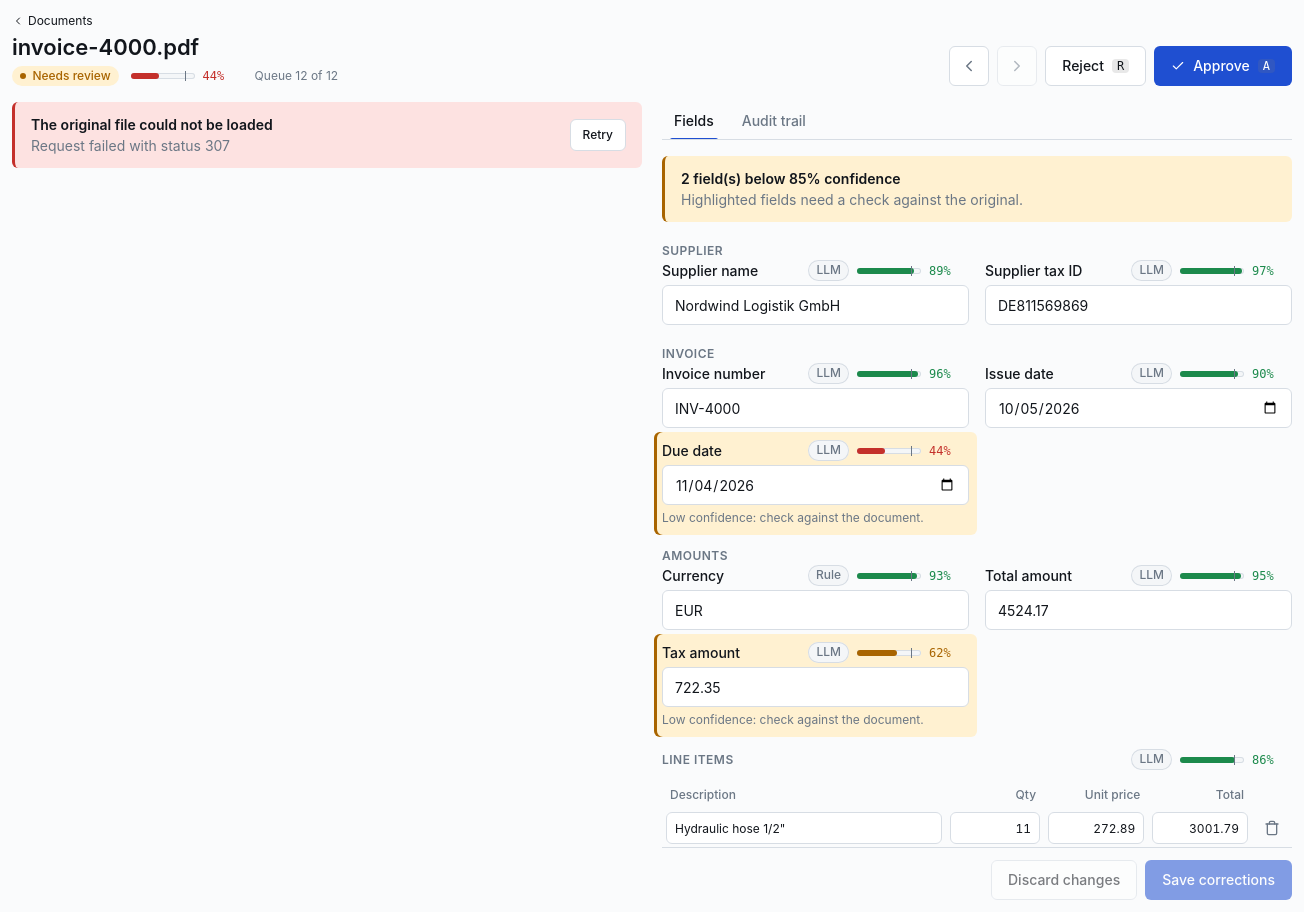
Test: Review workbench › approves the document
The width and height of the screenshot is (1304, 912).
Click the button "Approve a".
click(1223, 66)  # box [1154,46,1292,86]
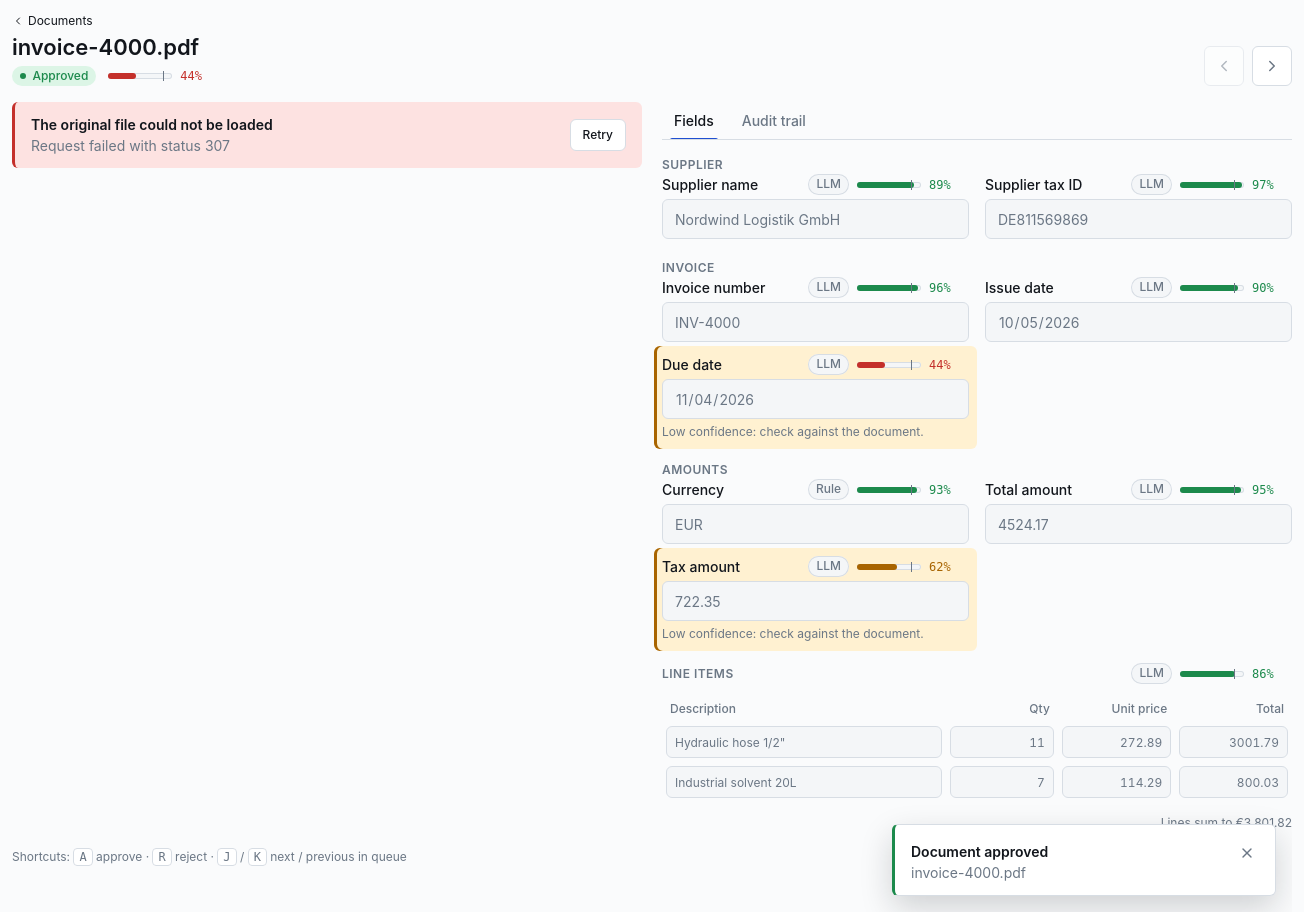
Now the text "Document approved" is shown, box [911,843,1048,860]
